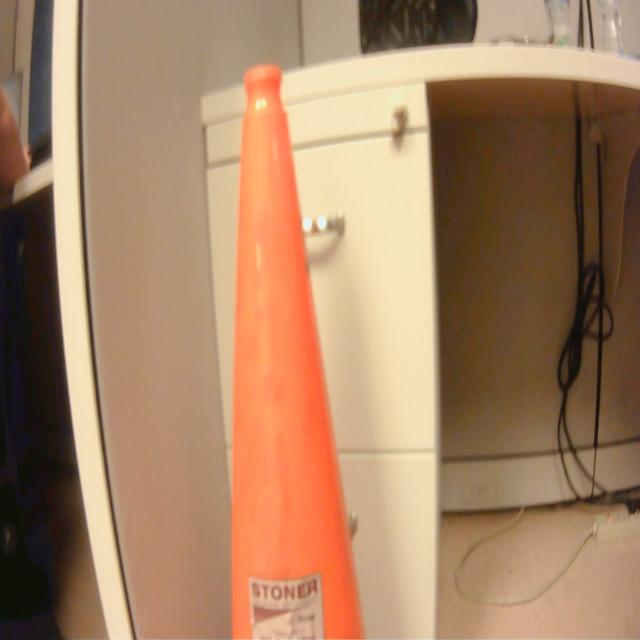traffic cone: (211, 58, 404, 640)
